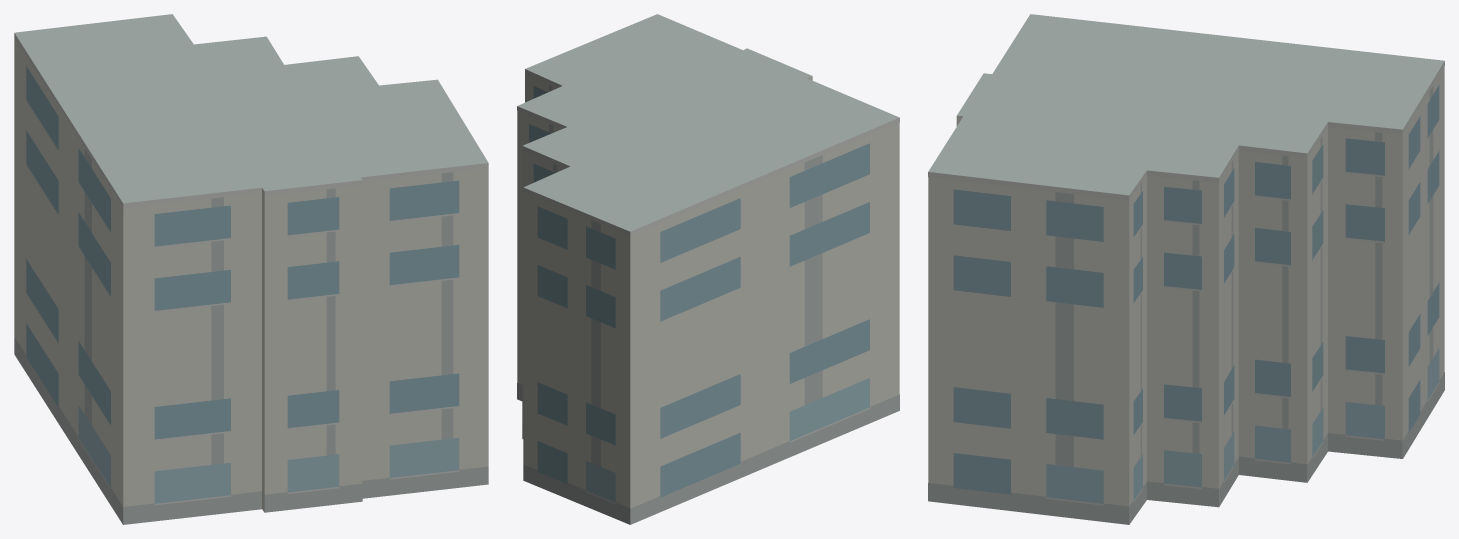
File: survey-upis-32573958.glb
3 views of the same model, side by side, from view 1: azimuth 30°, elevation 25°; view 2: azimuth 150°, elevation 25°; view 3: azimuth 270°, elevation 25° (orthographic). The views are drawn at different scales.
Parts seen in each view (by area): view 1: survey-upis-32573958.tmp; view 2: survey-upis-32573958.tmp; view 3: survey-upis-32573958.tmp.
Part boxes in pixels (left/top/right/bottom): survey-upis-32573958.tmp: left=14, top=14, right=488, bottom=524; survey-upis-32573958.tmp: left=517, top=14, right=899, bottom=524; survey-upis-32573958.tmp: left=928, top=14, right=1444, bottom=524.
Size of the model in its own units: 18.02 by 15.25 by 21.69.
